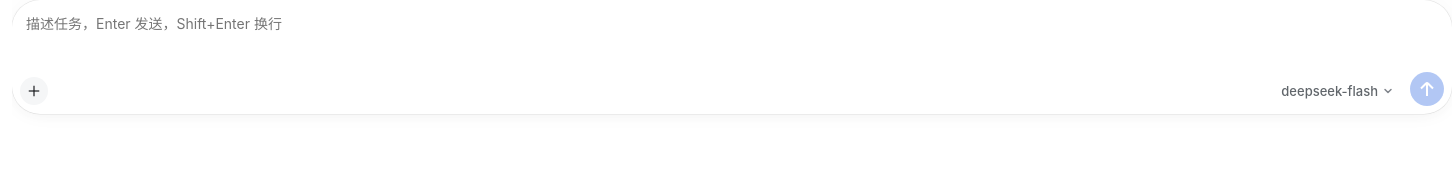
Scenario: command mode › keeps a refused command in the draft with its message
Step 1. Type "/goal budget 3" into the text box named "输入消息" → (730, 34), box [12,8,1448,60]
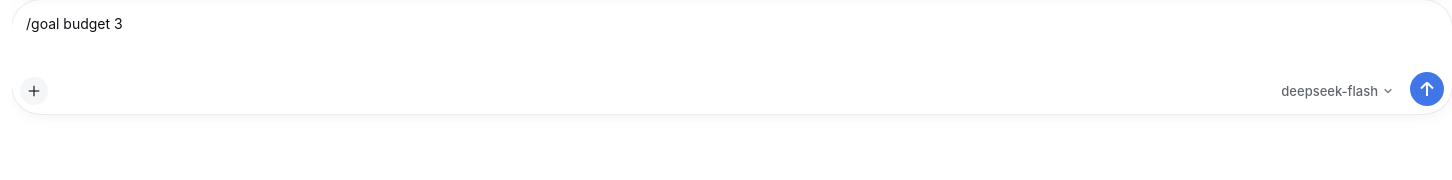
Step 2. Press Enter in the text box named "输入消息", box [12,8,1448,60]
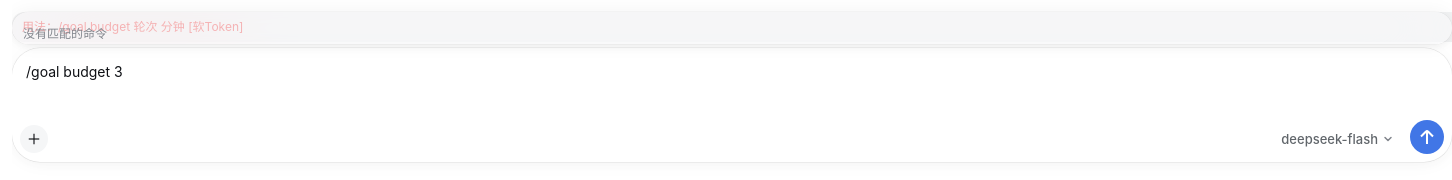
Check: the text "用法：/goal budget 轮次 分钟 [软Token]" is shown, box [12,12,1451,42]
